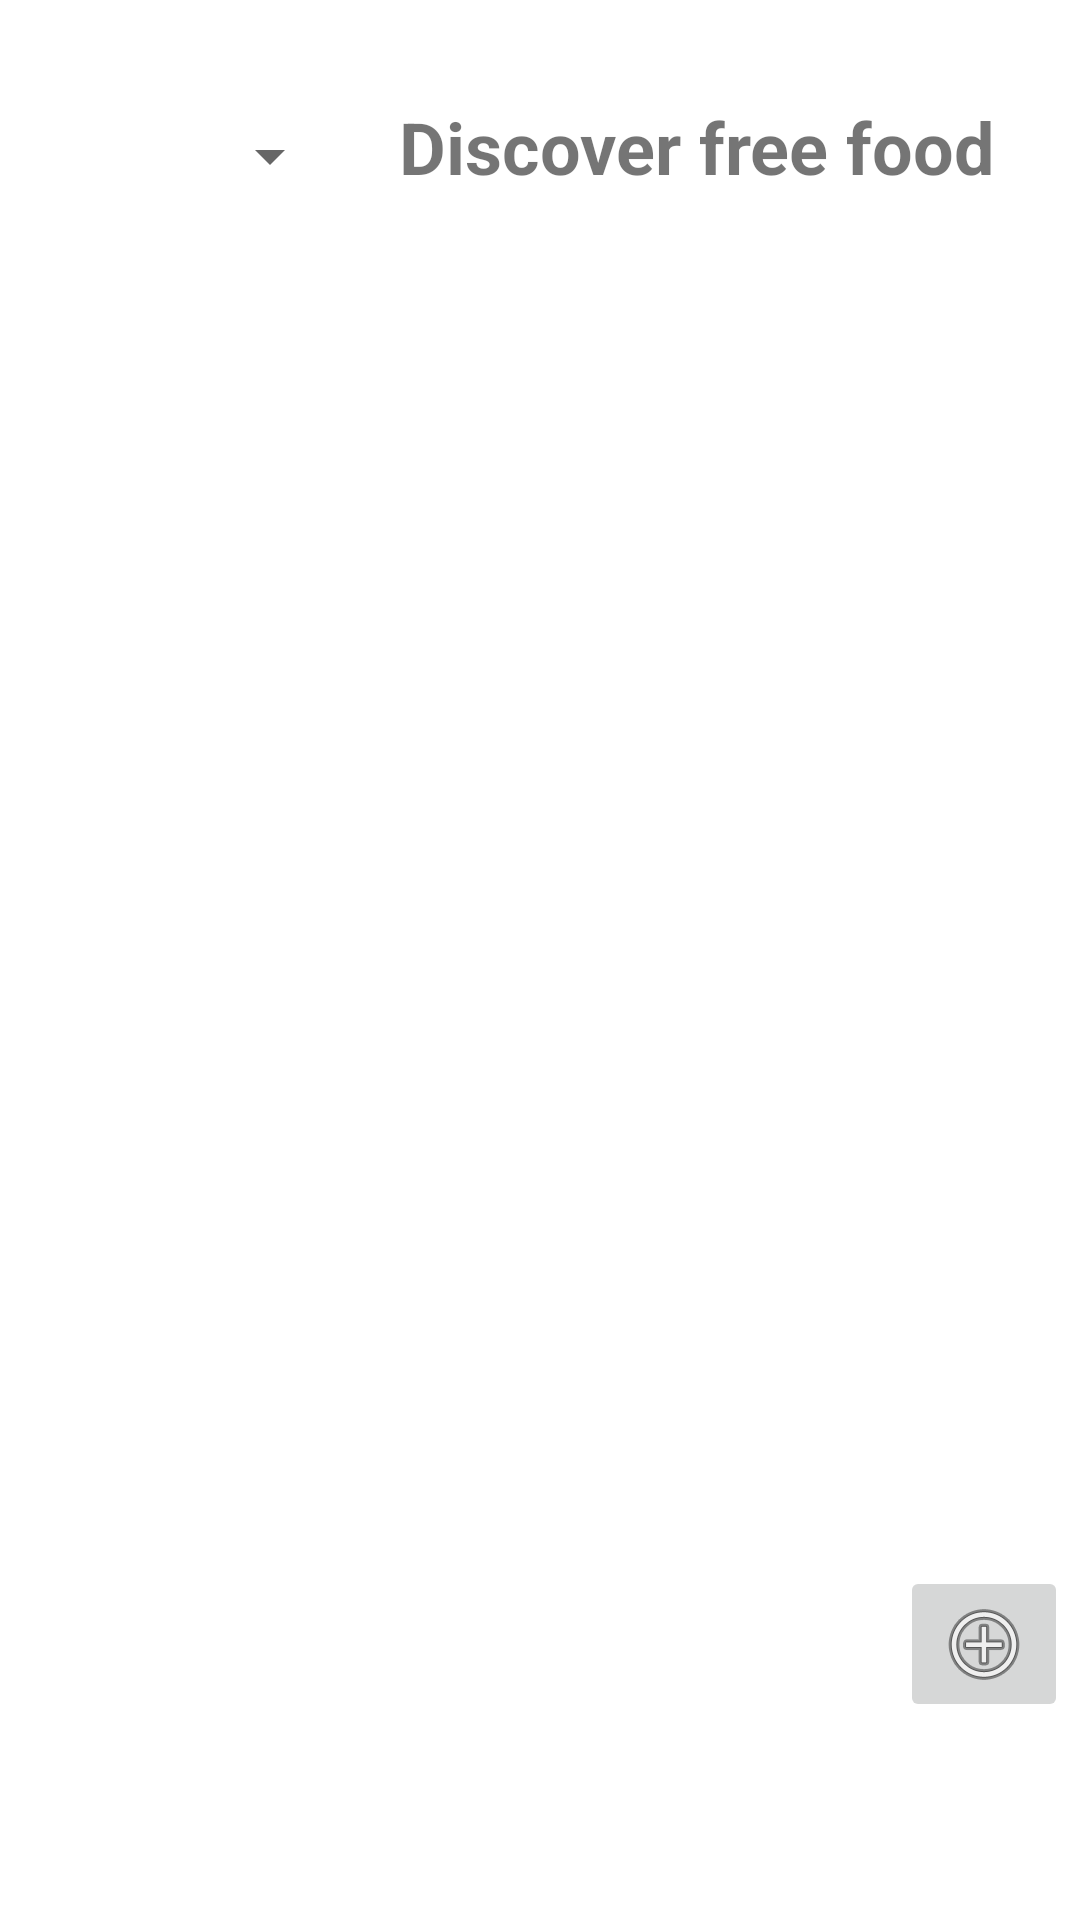

Icon click points for this 1080px x 1920px phone screenshot, format (x=x, y=y):
add: (x=984, y=1644)
